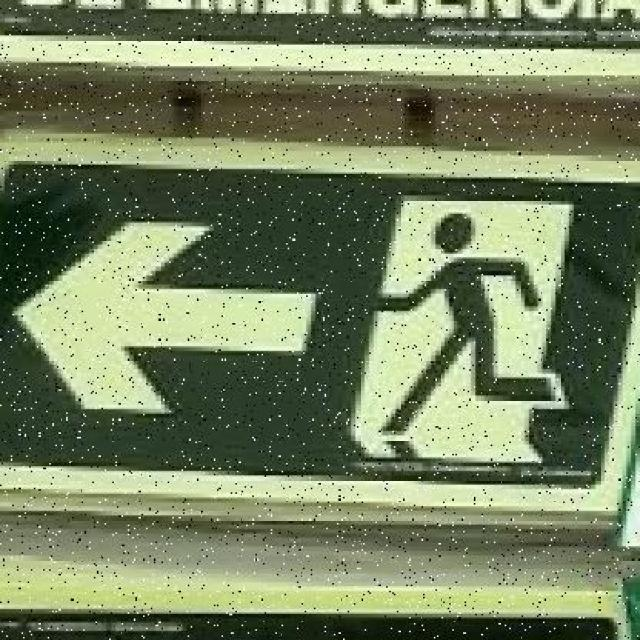emergency_exit: (1, 2, 639, 635), (1, 158, 639, 538)
